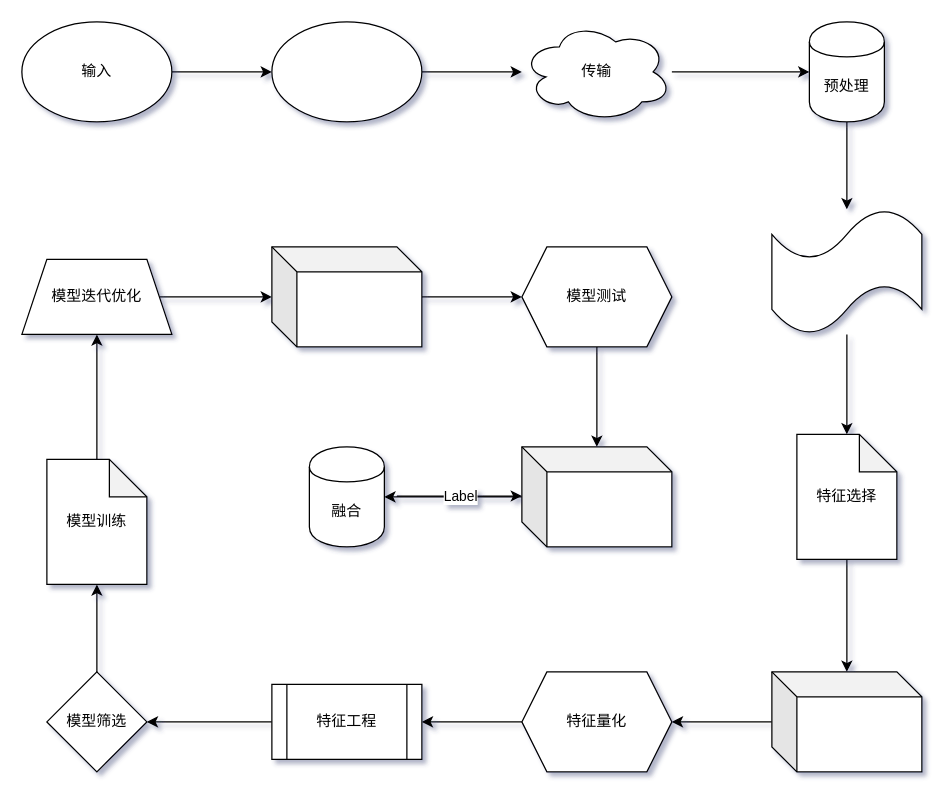
Image size: 951x801. Some labels were removed from this diagram. The centre of each missing label's shape, as x and y in pixels:
"EDA" goes at point (846, 271).
"数据获取" goes at point (346, 71).
"模型压缩" goes at point (346, 296).
"模型部署" goes at point (596, 496).
"特征对比" goes at point (846, 721).
